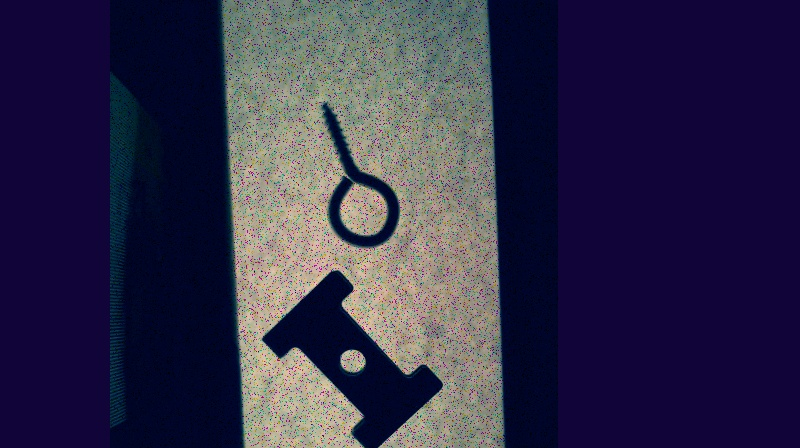O001: (313, 99, 400, 251)
O002: (256, 269, 442, 447)
